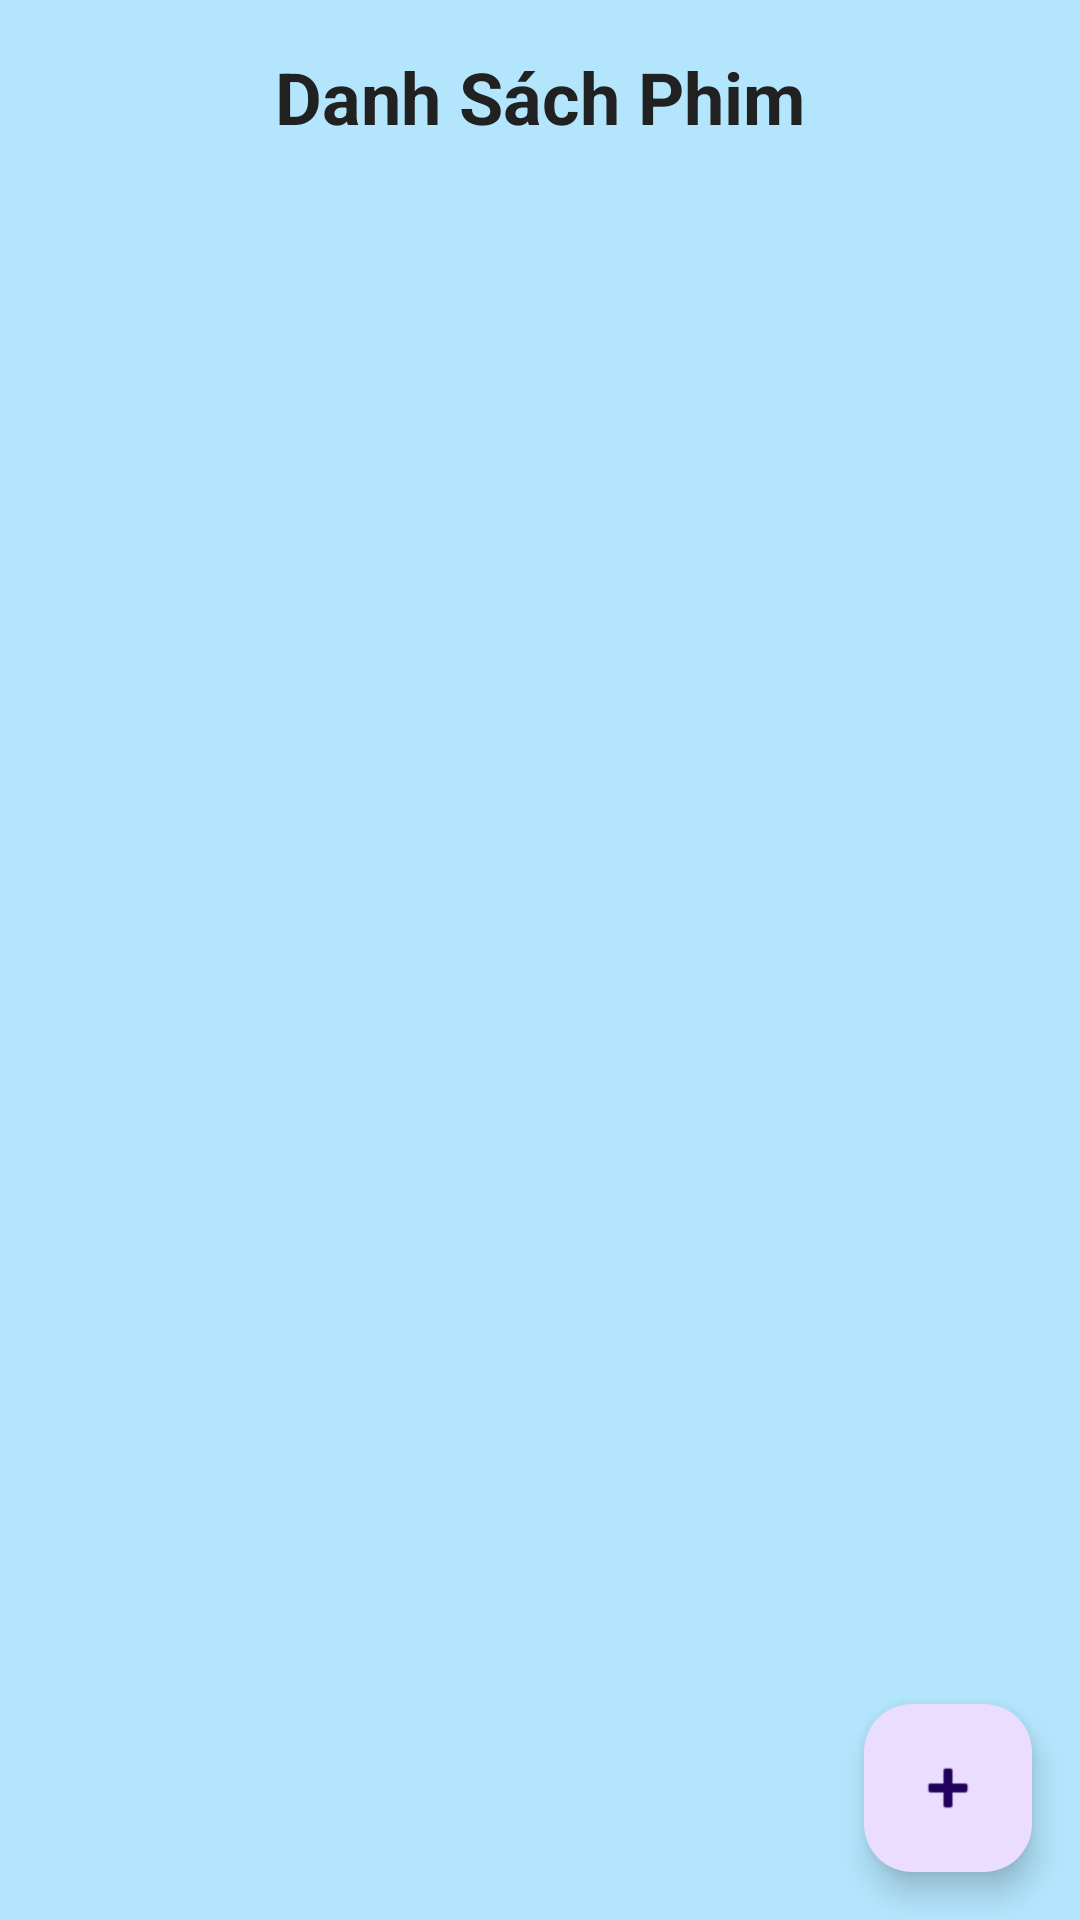

Screen size 1080px x 1920px. Icon name, then its box in pixels as (x1, y1, x2, y2):
Add Movie: (864, 1704, 1032, 1872)
